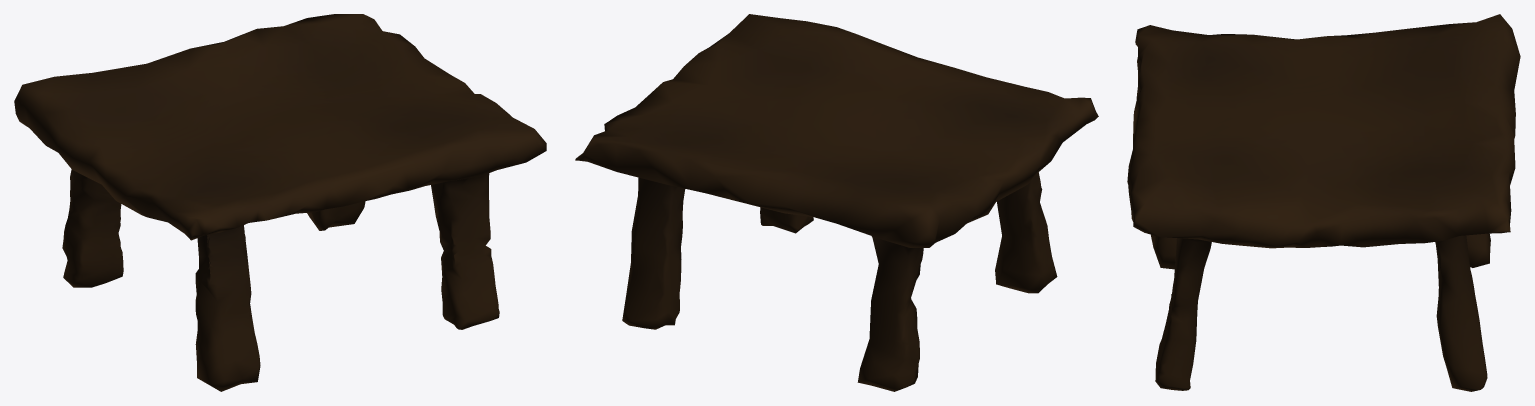
Rendered from msh_Table_01.fbx.
3 renders of one model, left to right at view 1: azimuth 30°, elevation 25°; view 2: azimuth 150°, elevation 25°; view 3: azimuth 270°, elevation 25°, orthographic. The views are drawn at different scales.
Parts seen in each view (by area): view 1: table1; view 2: table1; view 3: table1.
Part boxes in pixels (bbox=[...]): table1: bbox=[14, 14, 546, 391]; table1: bbox=[575, 14, 1098, 391]; table1: bbox=[1127, 14, 1520, 391].
Bounding box in the file's own units: 2.42 × 1.29 × 2.11.
